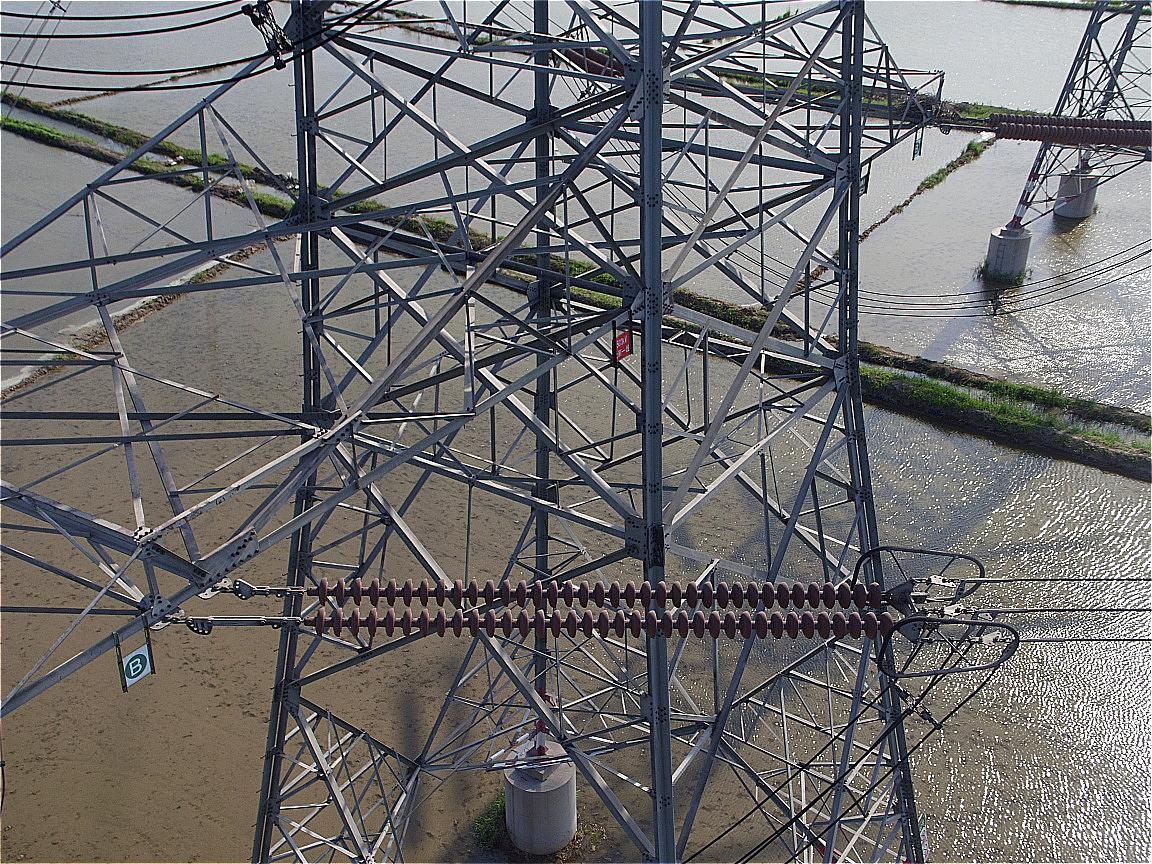insultor1: (303, 560, 932, 657)
